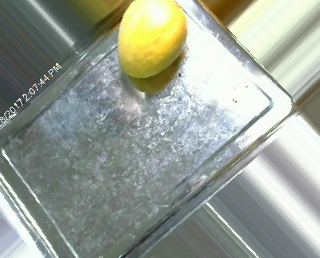Mango: (109, 0, 191, 81)
